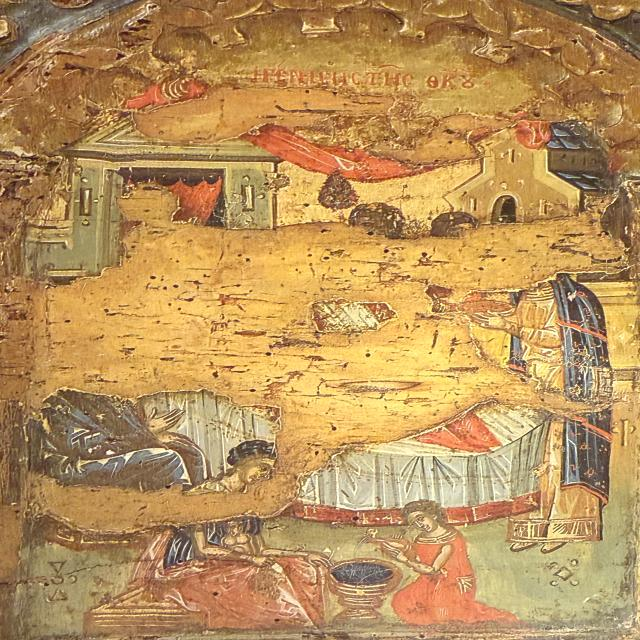basin: (329, 551, 407, 627)
